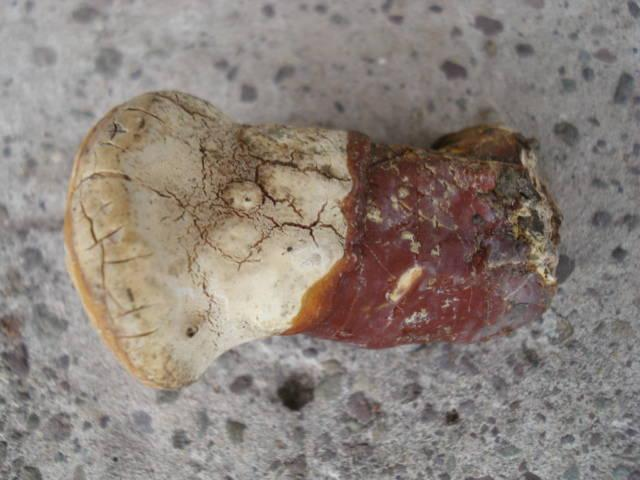Non-edible Mushroom: (61, 87, 564, 393)
